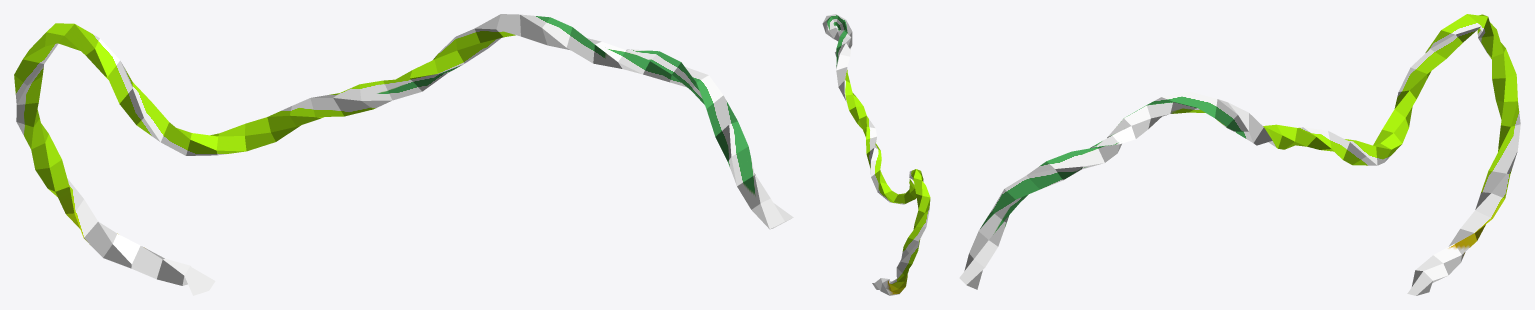
The model's file is Vine_Asset_1.fbx.
3 renders of one model, left to right at view 1: azimuth 30°, elevation 25°; view 2: azimuth 150°, elevation 25°; view 3: azimuth 270°, elevation 25°, orthographic. The views are drawn at different scales.
Parts seen in each view (by area): view 1: nurbsToPoly2; view 2: nurbsToPoly2; view 3: nurbsToPoly2.
Part boxes in pixels (left/top/right/bottom): nurbsToPoly2: left=14, top=14, right=793, bottom=295; nurbsToPoly2: left=822, top=14, right=930, bottom=295; nurbsToPoly2: left=959, top=14, right=1520, bottom=295.
Bounding box in the file's own units: 1254 × 814 × 1446.
